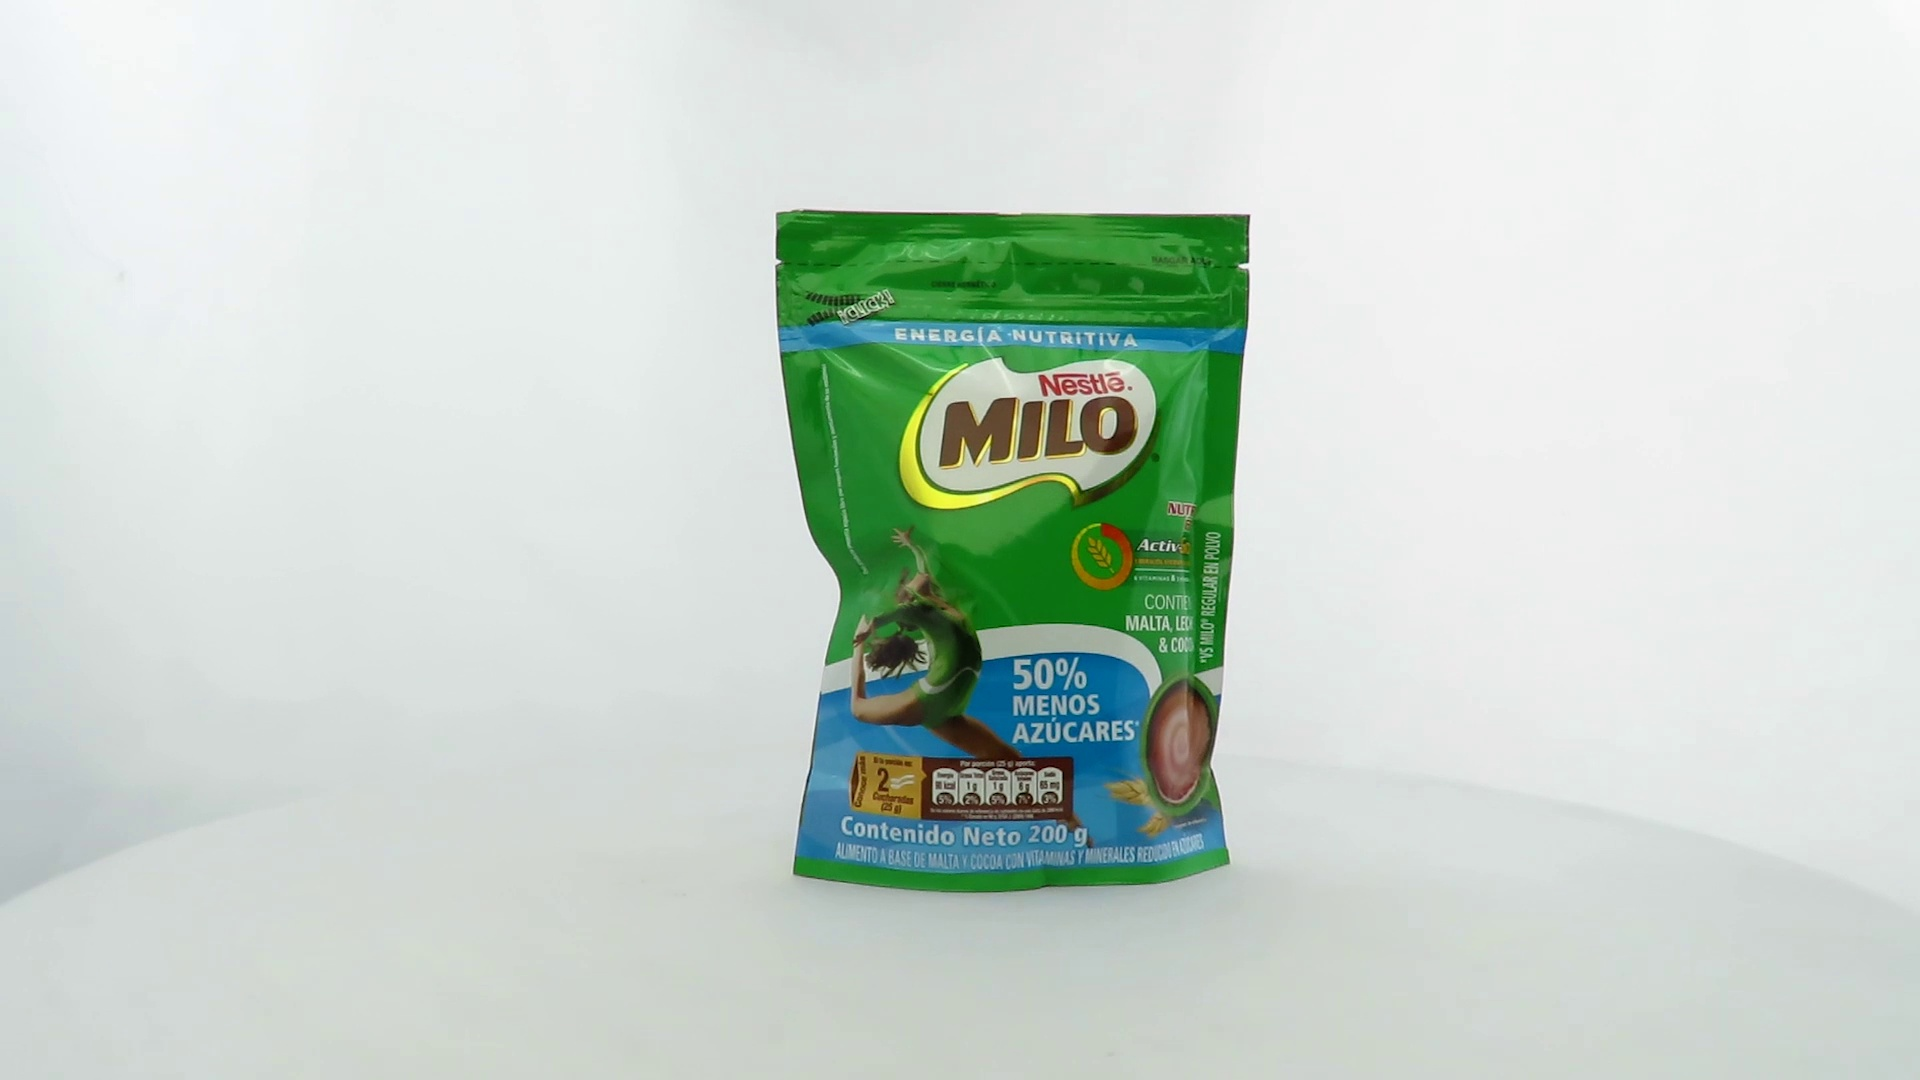COL0170205DYP20000: (770, 204, 1255, 899)
